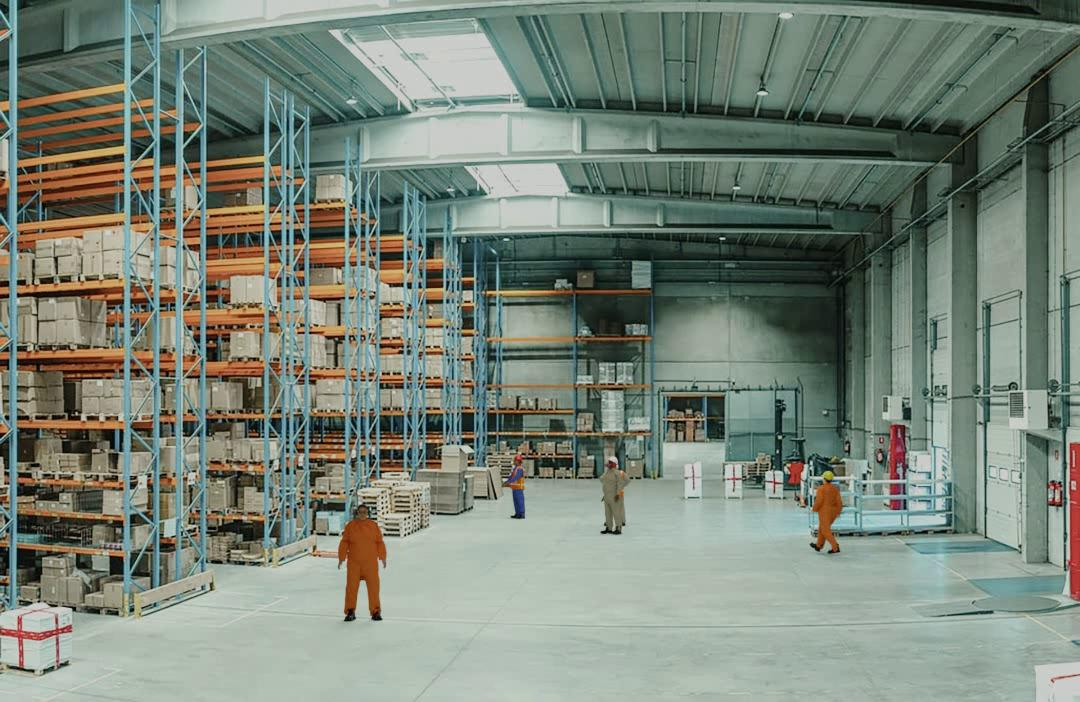Helmet: (822, 471, 835, 480), (609, 457, 620, 464), (514, 455, 524, 461)
Shoes: (344, 610, 356, 622), (370, 613, 384, 622), (510, 512, 525, 520), (809, 543, 821, 552), (826, 548, 840, 554), (612, 529, 623, 535), (600, 529, 612, 534)
